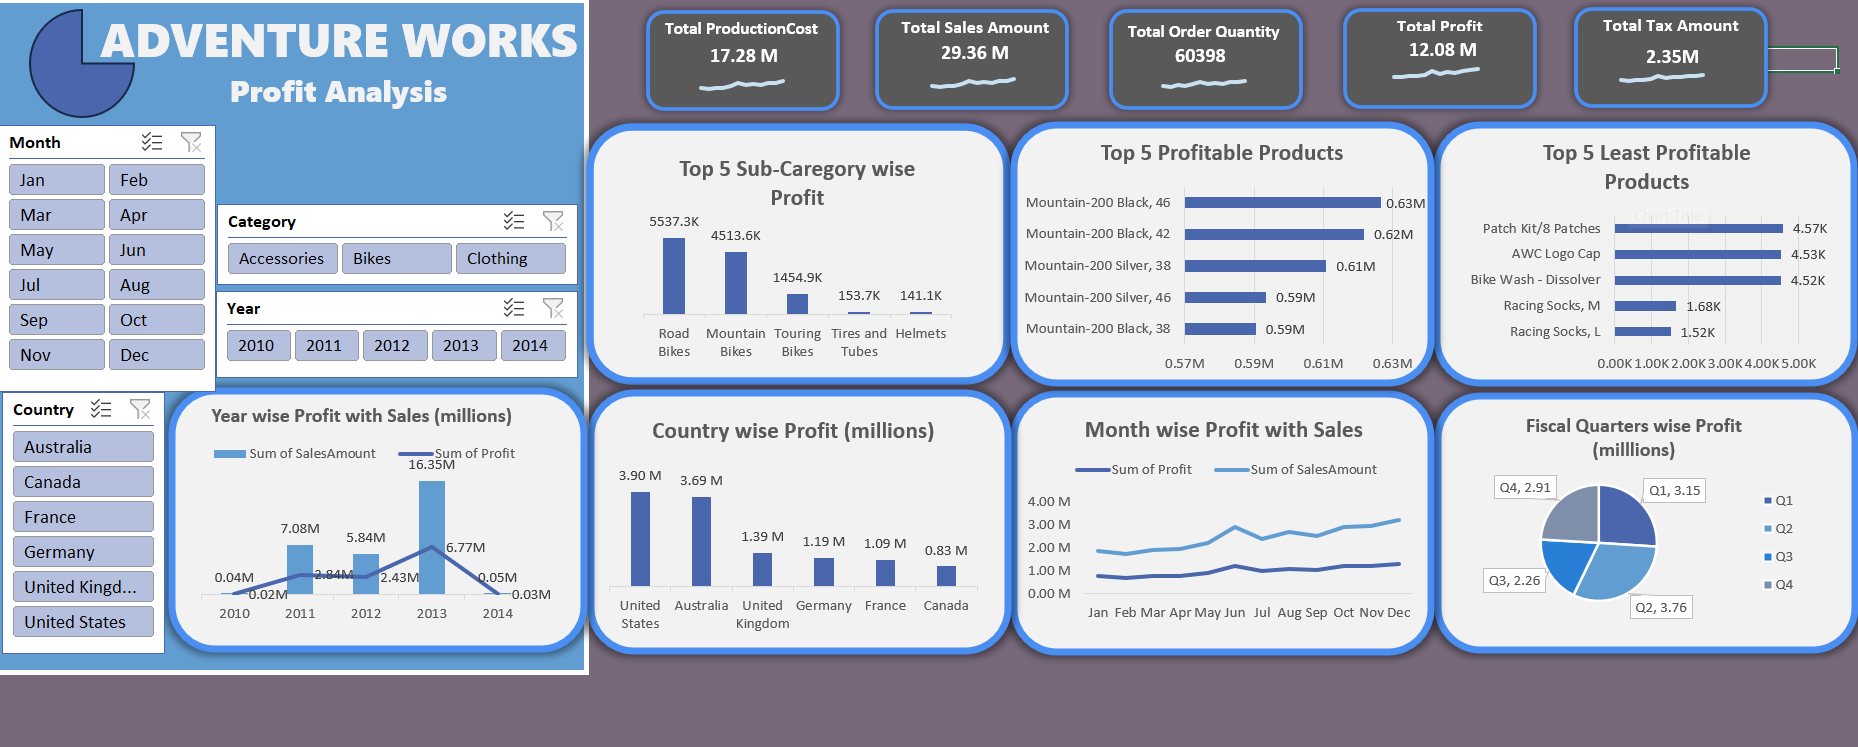

This screenshot's page, from the dashboard's own definition file:
{"tool":"tableau","page":{"name":"Profit DB","canvas":[1000,1000],"units":"permille","ordinal":1},"visuals":[{"type":"title","box":[4.8,10,990.3,63.7]},{"type":"worksheet","title":"Product","mark":"Automatic","box":[4.8,73.7,160.4,129.5]},{"type":"worksheet","title":"Tax","mark":"Automatic","box":[165.2,73.7,285.5,149.6]},{"type":"worksheet","title":"Order","mark":"Automatic","box":[450.7,73.7,139.8,149.6]},{"type":"worksheet","title":"Sales","mark":"Automatic","box":[590.5,73.7,147.1,149.6]},{"type":"worksheet","title":"Profit","mark":"Automatic","box":[737.6,73.7,257.6,149.6]},{"type":"image","param":"Image/adventure work logo.png","box":[4.8,203.2,160.4,78.6]},{"type":"worksheet","title":"Ordered Products (2)","mark":"Automatic","rows":["Profit"],"cols":["EnglishProductName"],"box":[450.7,223.2,286.9,296.8]},{"type":"worksheet","title":"Least Products (2)","mark":"Automatic","rows":["EnglishProductName"],"cols":["Profit"],"box":[737.6,223.2,257.6,296.8]},{"type":"worksheet","title":"Sub Category (2)","mark":"Automatic","rows":["EnglishProductSubcategoryName"],"cols":["Profit"],"box":[165.2,223.3,285.5,296.7]},{"type":"filter","title":"Least Products (2)","param":"[federated.1igmwji03699eh17bwwhh0wy6o8f].[none:EnglishProductCategoryName:nk]","box":[12.3,283.4,148.2,164.8]},{"type":"filter","title":"Least Products (2)","param":"[federated.1igmwji03699eh17bwwhh0wy6o8f].[none:SalesTerritoryCountry:nk]","box":[11.7,463.2,148.8,263.4]},{"type":"worksheet","title":"Month Wise Order (2)","mark":"Square","rows":["Profit"],"cols":["EnglishMonthName"],"box":[165.2,520,285.2,470]},{"type":"worksheet","title":"Pie Chart (2)","mark":"Area","rows":["Profit"],"cols":["FiscalQuarter"],"box":[450.5,520,287.1,225]},{"type":"worksheet","title":"Map (2)","mark":"Multipolygon","box":[737.6,520,257.6,470]},{"type":"filter","title":"Least Products (2)","param":"[federated.1igmwji03699eh17bwwhh0wy6o8f].[mn:OrderDate:ok]","box":[11.2,735.3,149.4,102.4]},{"type":"worksheet","title":"Year Wise Order (2)","mark":"Area","rows":["Profit"],"cols":["FiscalYear"],"box":[450.5,745,287.1,245]},{"type":"filter","title":"Least Products (2)","param":"[federated.1igmwji03699eh17bwwhh0wy6o8f].[yr:OrderDate:ok]","box":[10,845.2,151.2,131.1]}]}

Visuals, with their boxes on the dashboard's canvas, which has no fixed pixel size, in thousandths of its width and height (x1, y1, x2, y2). These are canvas units, not pixel positions in the 1858x747 screenshot, which may show the page scaled, cropped or inside an application window:
title: bbox(5, 10, 995, 74)
"Product" worksheet: bbox(5, 74, 165, 203)
"Tax" worksheet: bbox(165, 74, 451, 223)
"Order" worksheet: bbox(451, 74, 590, 223)
"Sales" worksheet: bbox(590, 74, 738, 223)
"Profit" worksheet: bbox(738, 74, 995, 223)
image: bbox(5, 203, 165, 282)
"Ordered Products (2)" worksheet: bbox(451, 223, 738, 520)
"Least Products (2)" worksheet: bbox(738, 223, 995, 520)
"Sub Category (2)" worksheet: bbox(165, 223, 451, 520)
"Least Products (2)" filter: bbox(12, 283, 160, 448)
"Least Products (2)" filter: bbox(12, 463, 160, 727)
"Month Wise Order (2)" worksheet (Square marks): bbox(165, 520, 450, 990)
"Pie Chart (2)" worksheet (Area marks): bbox(450, 520, 738, 745)
"Map (2)" worksheet (Multipolygon marks): bbox(738, 520, 995, 990)
"Least Products (2)" filter: bbox(11, 735, 161, 838)
"Year Wise Order (2)" worksheet (Area marks): bbox(450, 745, 738, 990)
"Least Products (2)" filter: bbox(10, 845, 161, 976)
